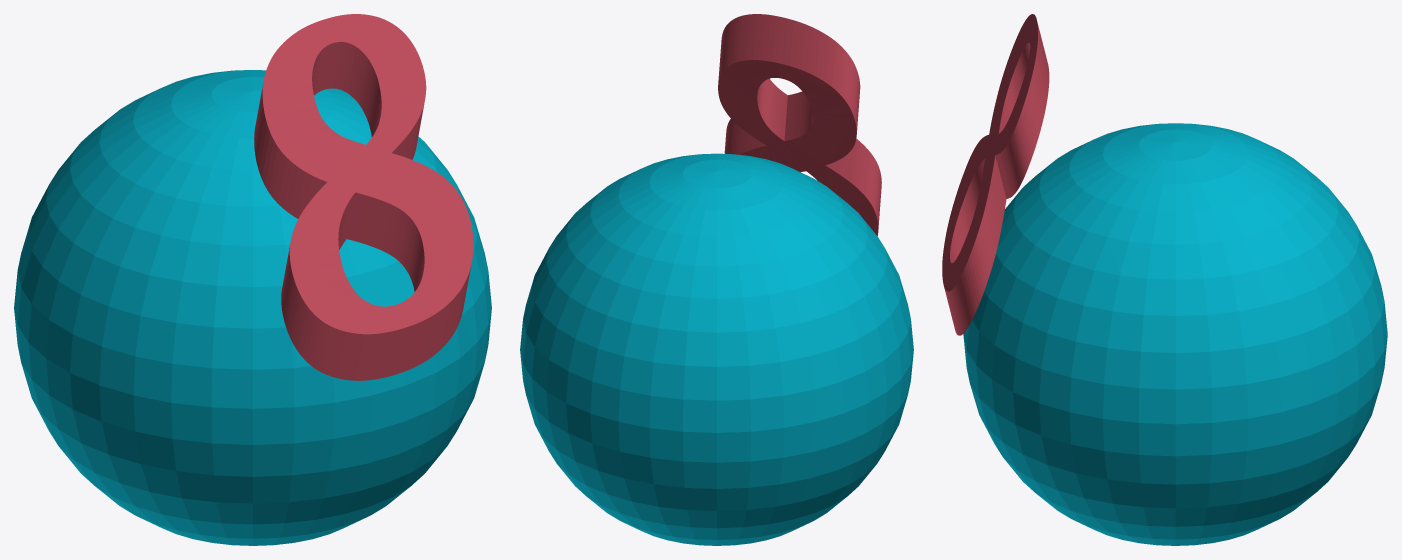
Rendered from number_8.glb.
3 renders of one model, left to right at view 1: azimuth 30°, elevation 25°; view 2: azimuth 150°, elevation 25°; view 3: azimuth 270°, elevation 25°, orthographic. The views are drawn at different scales.
Parts seen in each view (by area): view 1: Mesh_Mesh_head_geo.001_lambert2SG.001; view 2: Mesh_Mesh_head_geo.001_lambert2SG.001; view 3: Mesh_Mesh_head_geo.001_lambert2SG.001.
Boxes of the visible parts, <box> form: Mesh_Mesh_head_geo.001_lambert2SG.001: <box>14,14,491,545</box>; Mesh_Mesh_head_geo.001_lambert2SG.001: <box>520,14,913,545</box>; Mesh_Mesh_head_geo.001_lambert2SG.001: <box>942,14,1387,545</box>.
Bounding box in the file's own units: 20 × 26.03 × 21.
